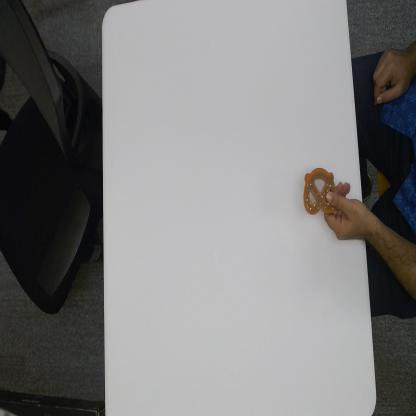Hand: (325, 178, 371, 248)
Pretzel: (302, 164, 334, 218)
